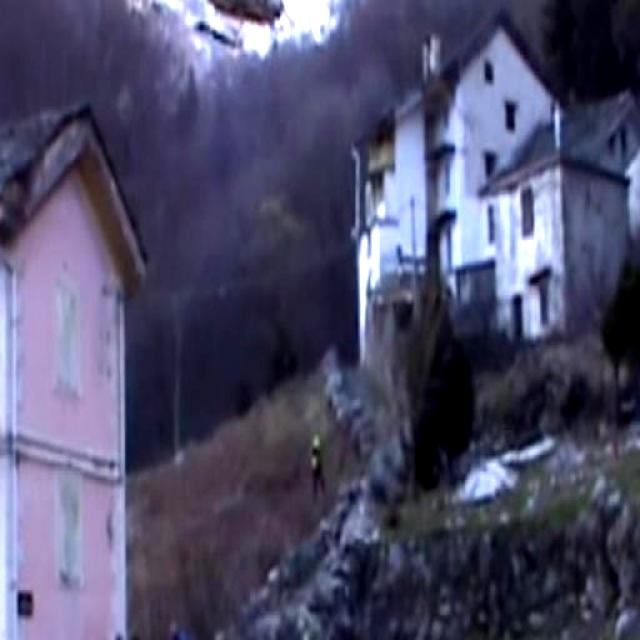drone: (110, 0, 291, 69)
